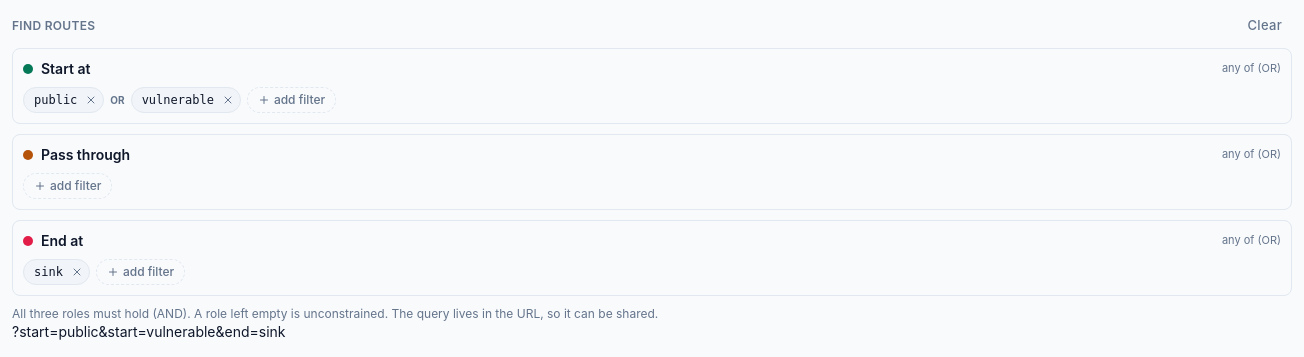
Test case: RouteQueryPanel › removes a filter from the URL
Click the button named "Remove public from Start at". click: (91, 100)
box: 83,92 -> 99,108
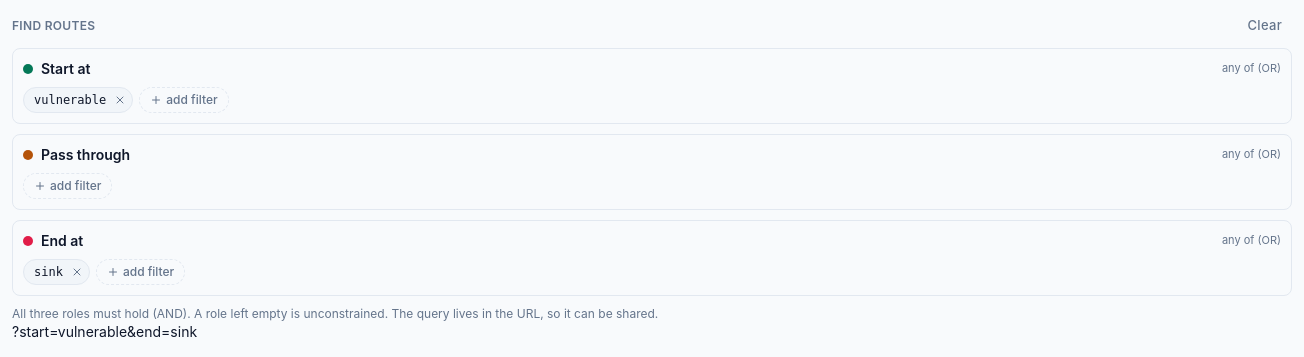
Result: the text named "url-search" reads "?start=vulnerable&end=sink" at 12,323 -> 197,340
